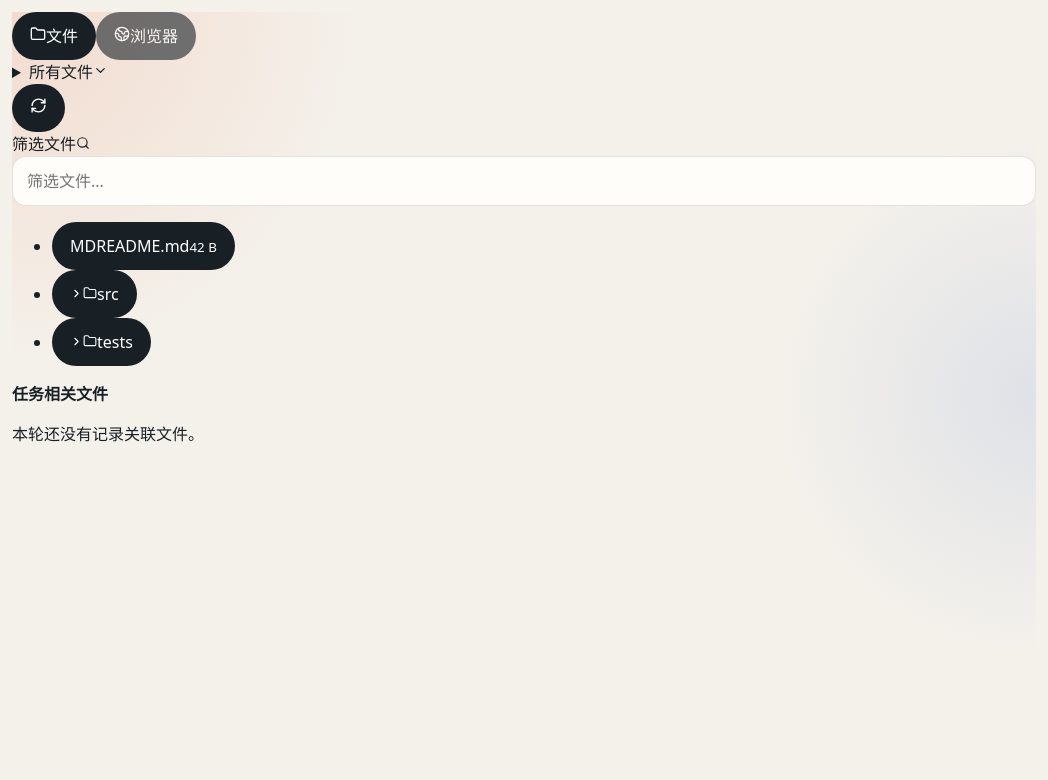
Test: FileWorkspacePanel › clears the workspace file filter
Expected: the element named "项目文件" is shown, left=12, top=60, right=1036, bottom=446
Type "deep" into the field labelled "筛选文件". click: x=524, y=181
box: left=12, top=156, right=1036, bottom=206
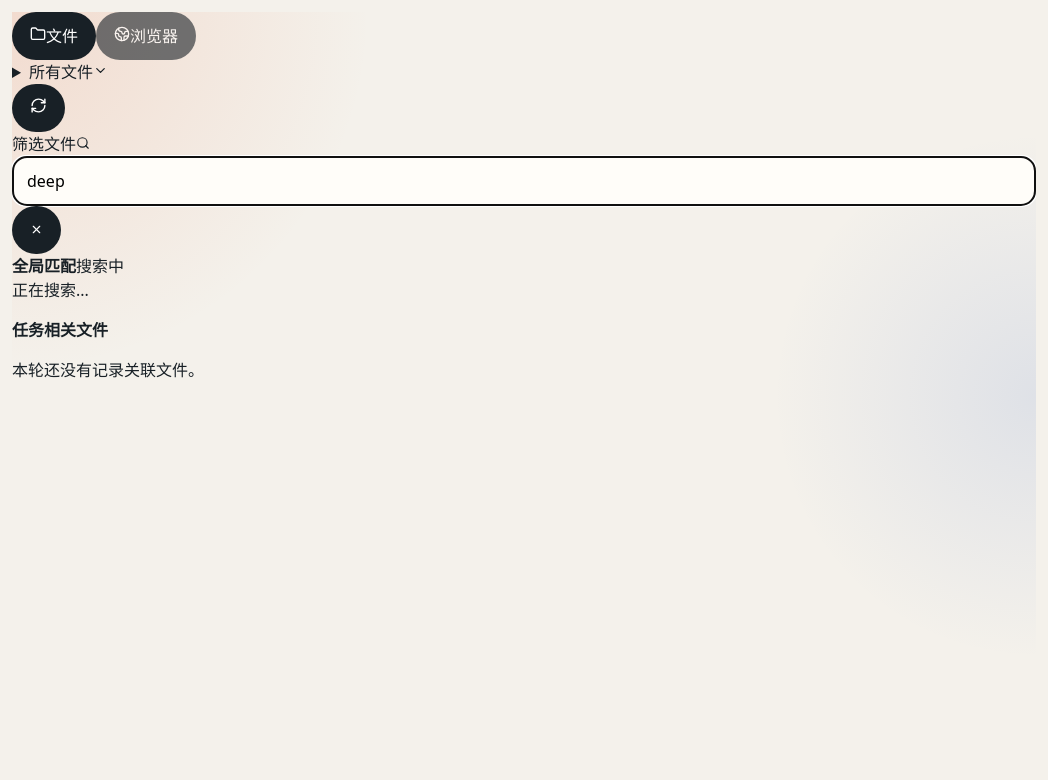
Click the button named "清空筛选文件". click: x=36, y=230
box: left=12, top=206, right=61, bottom=254
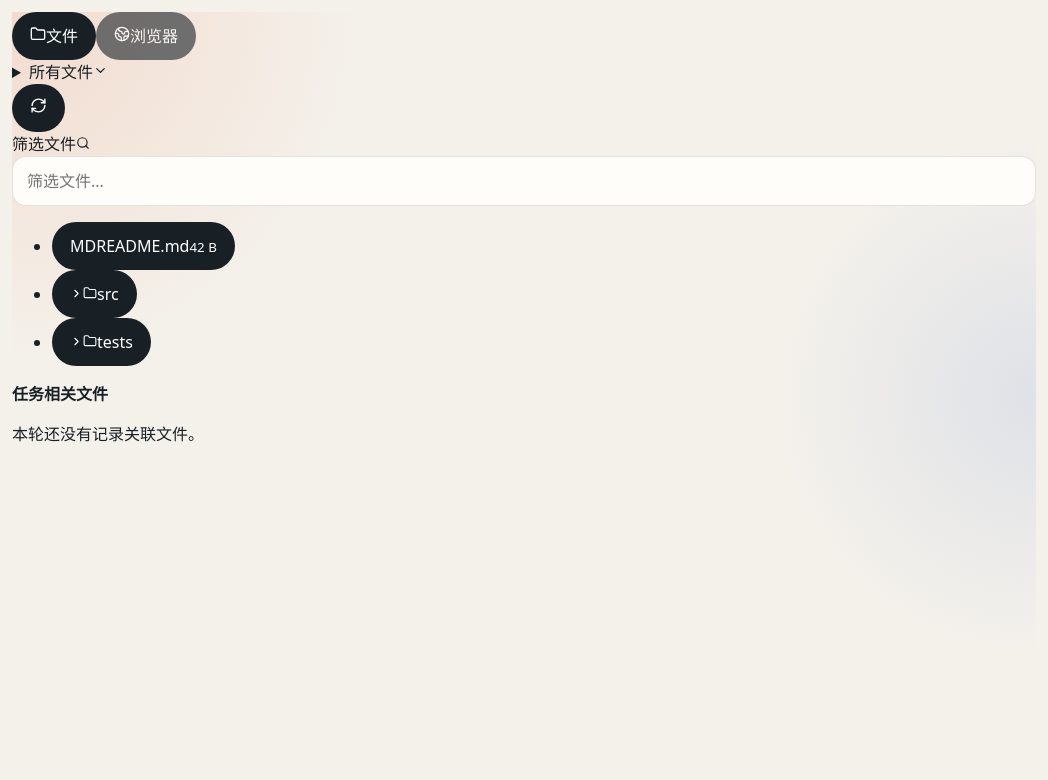
Expected: the field labelled "筛选文件" is empty, left=12, top=156, right=1036, bottom=206
Expected: the field labelled "全局文件搜索" is gone
